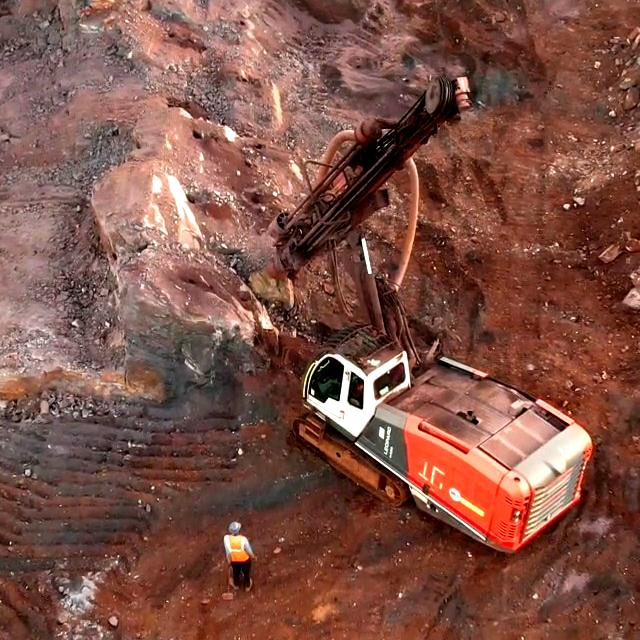Blast rig: (296, 346, 593, 549)
person: (219, 524, 261, 591)
